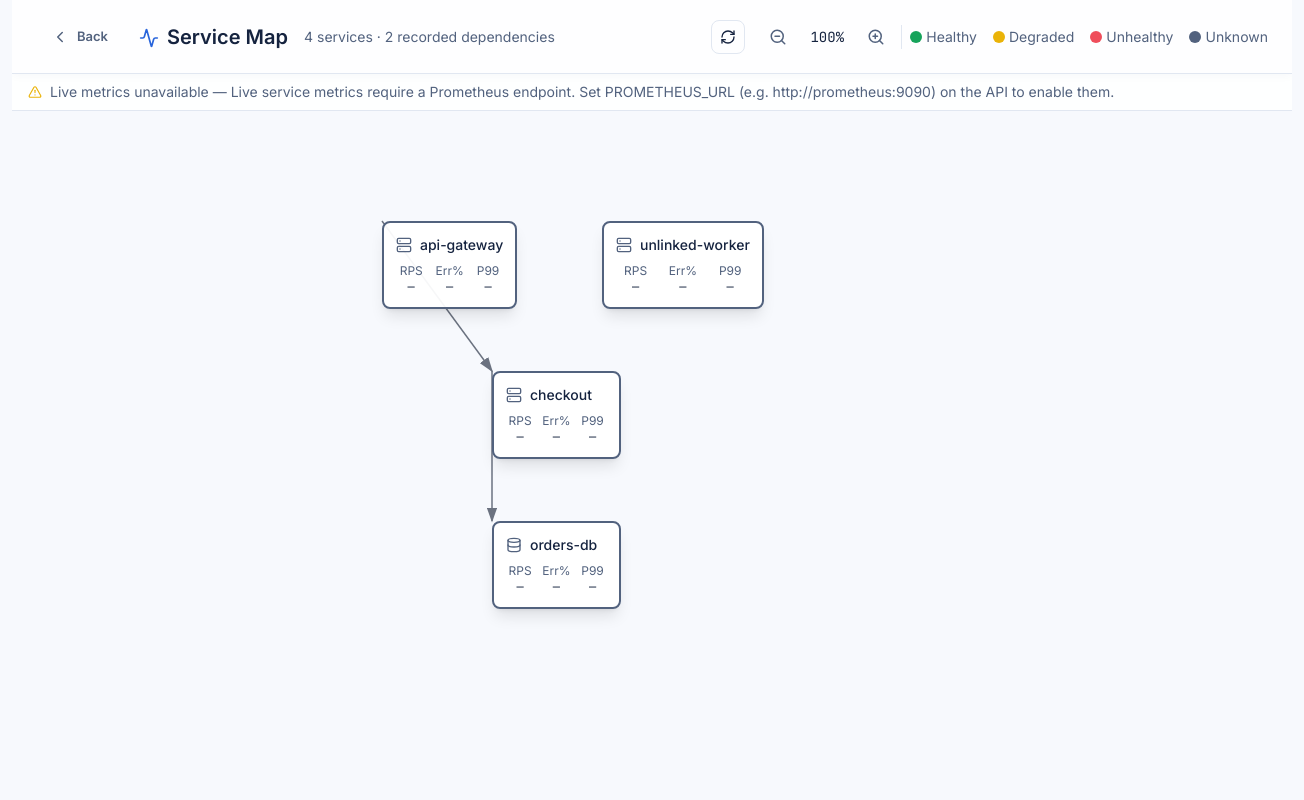
Scenario: ServiceMap › draws only recorded edges, not a gateway star or a service-to-database mesh
Expected: the text "api-gateway" is shown, [420,235,503,255]
Click the text "checkout": coordinates (561, 395) [530,385,592,405]
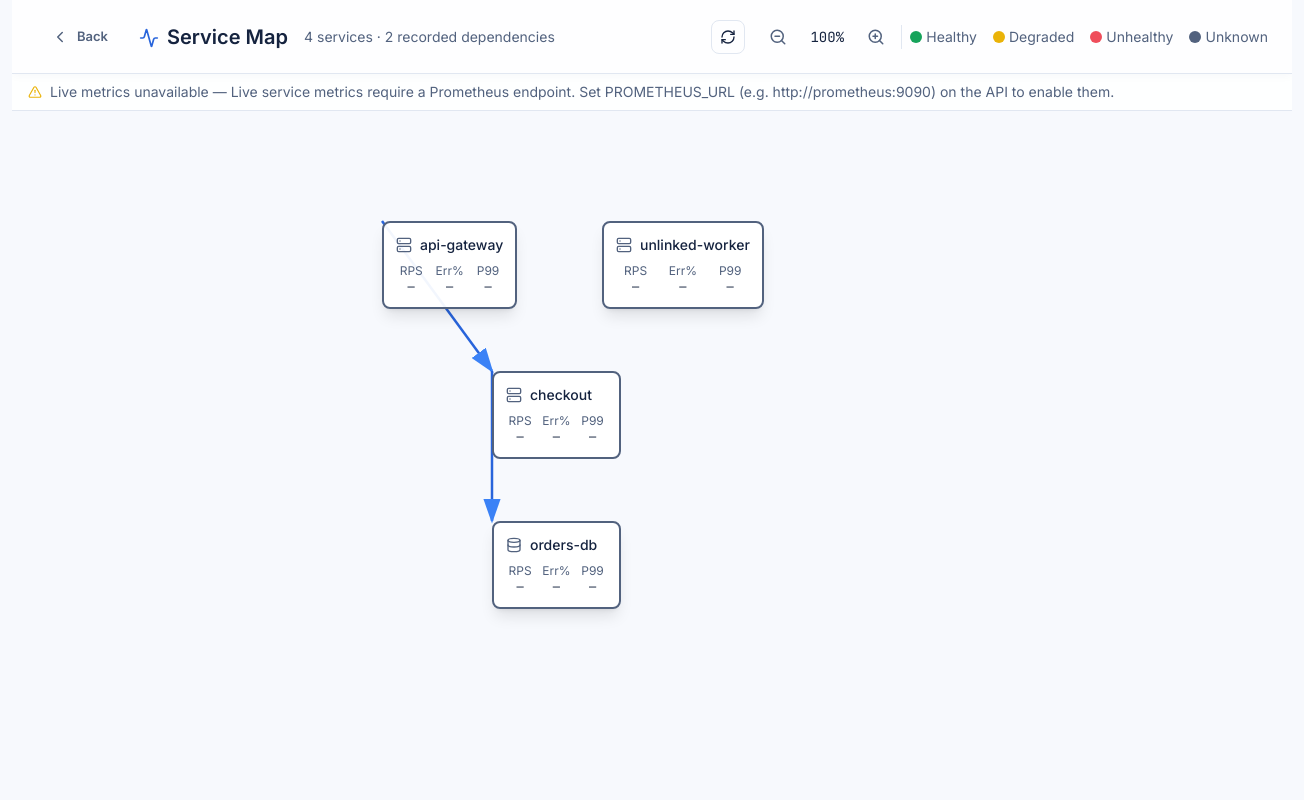
Click the text "unlinked-worker": coordinates (695, 245) [640,235,750,255]
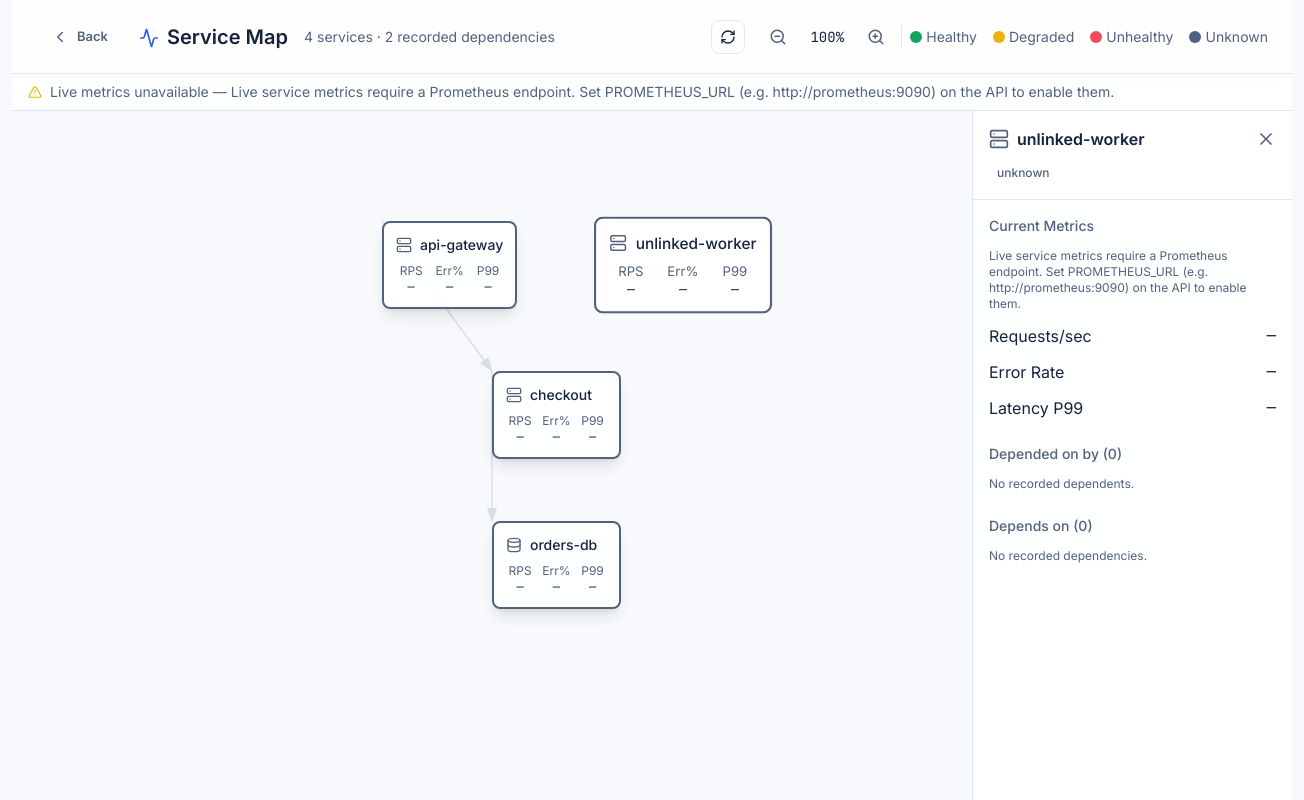
Result: the text "No recorded dependencies." is shown at [989,548,1147,563]
